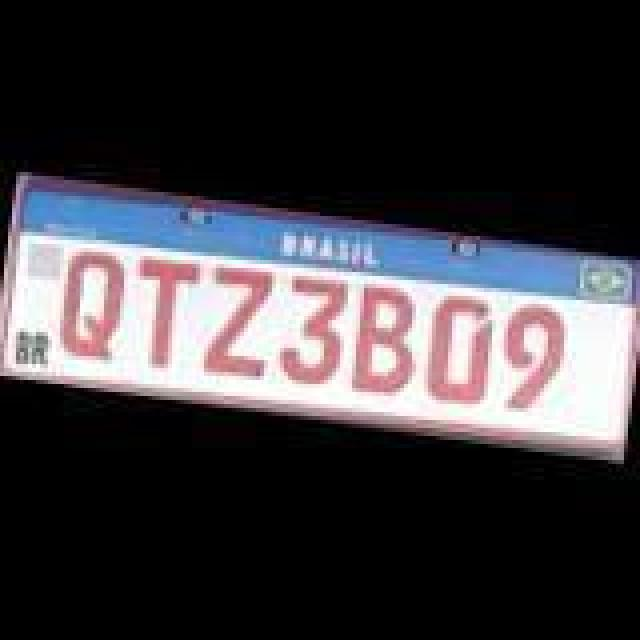3: (274, 266, 358, 390)
9: (494, 294, 570, 418)
B: (352, 284, 432, 404)
D: (422, 290, 498, 414)
Q: (52, 242, 124, 366)
T: (122, 254, 198, 370)
Z: (200, 264, 280, 376)
